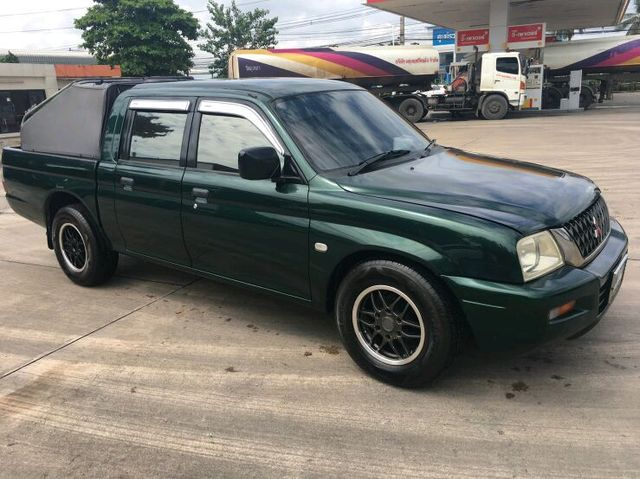pickup: (1, 70, 632, 384)
